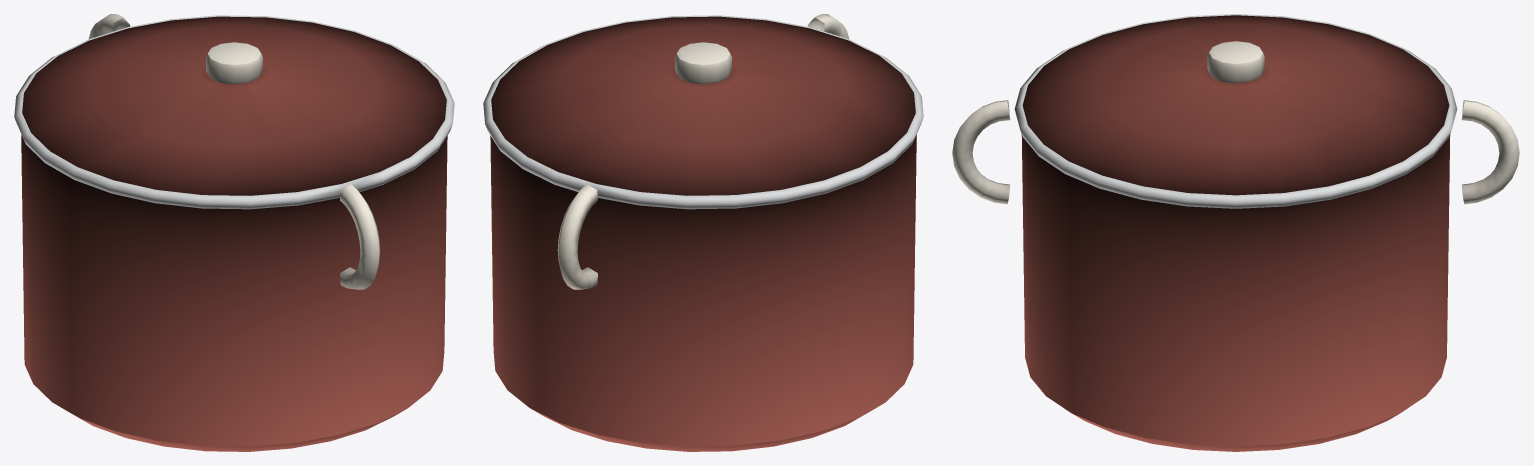
File: cook_pot.glb
The picture shows the model from 3 angles, left to right: view 1: azimuth 30°, elevation 25°; view 2: azimuth 150°, elevation 25°; view 3: azimuth 270°, elevation 25°; orthographic projection.
Parts seen in each view (by area): view 1: PART; view 2: PART; view 3: PART.
Boxes of the visible parts, bbox=[...] form: PART: bbox=[14, 14, 454, 451]; PART: bbox=[483, 14, 923, 451]; PART: bbox=[952, 14, 1519, 451].
Size of the model in its own units: 0.2476 by 0.197 by 0.3174.
